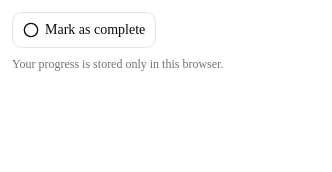
Scenario: AcademyLessonCompleteButton › marks the lesson complete and unmarks it again
Click the button "Mark as complete".
click(84, 30)  # box [12,12,156,48]
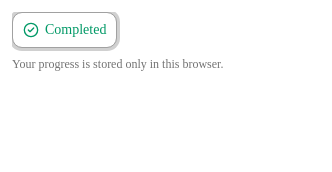
expect the button "Completed" is pressed: met
Click the button "Completed".
click(65, 30)  # box [12,12,117,48]
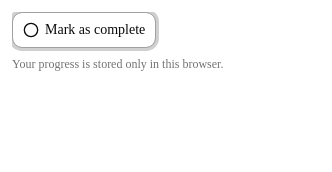
expect the button "Mark as complete" is not pressed: met, box [12,12,156,48]
